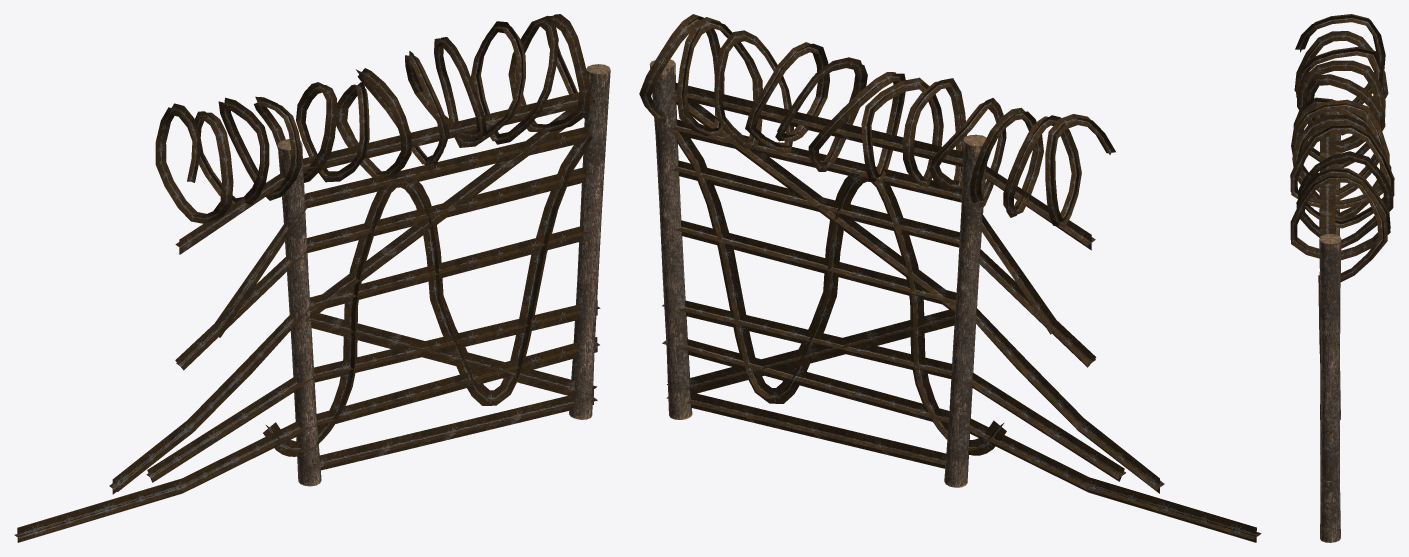
File: Fence_wood_06.FBX
The picture shows the model from 3 angles, left to right: view 1: azimuth 30°, elevation 25°; view 2: azimuth 150°, elevation 25°; view 3: azimuth 270°, elevation 25°; orthographic projection. The views are drawn at different scales.
Parts seen in each view (by area): view 1: Fence_wood_wire_06, Fence_wood_06; view 2: Fence_wood_wire_06, Fence_wood_06; view 3: Fence_wood_wire_06, Fence_wood_06.
Boxes of the visible parts, box(x1,y1,x2,y2) form: Fence_wood_wire_06: box(14, 14, 600, 542); Fence_wood_06: box(277, 64, 610, 486); Fence_wood_wire_06: box(639, 14, 1261, 542); Fence_wood_06: box(649, 59, 987, 487); Fence_wood_wire_06: box(1290, 14, 1394, 529); Fence_wood_06: box(1319, 100, 1341, 542).
Bounding box in the file's own units: 492 × 317 × 82.96.
